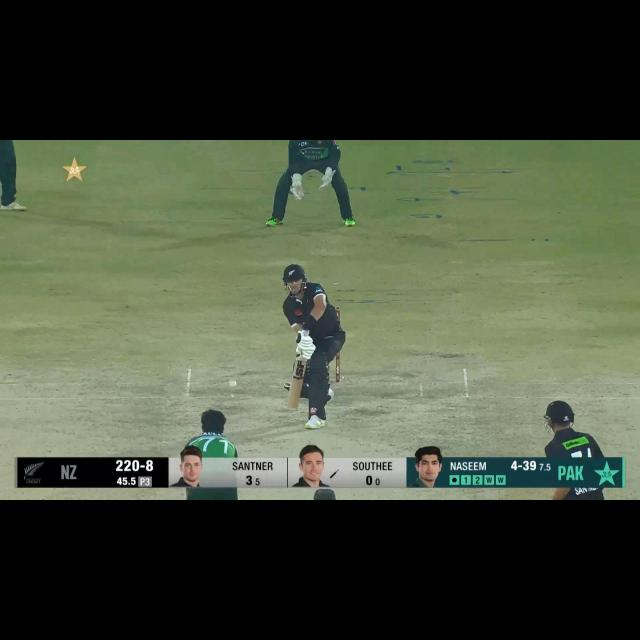bat: (286, 358, 307, 412)
toe: (286, 402, 299, 409)
